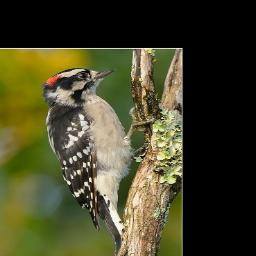Woodpecker: (39, 68, 151, 256)
